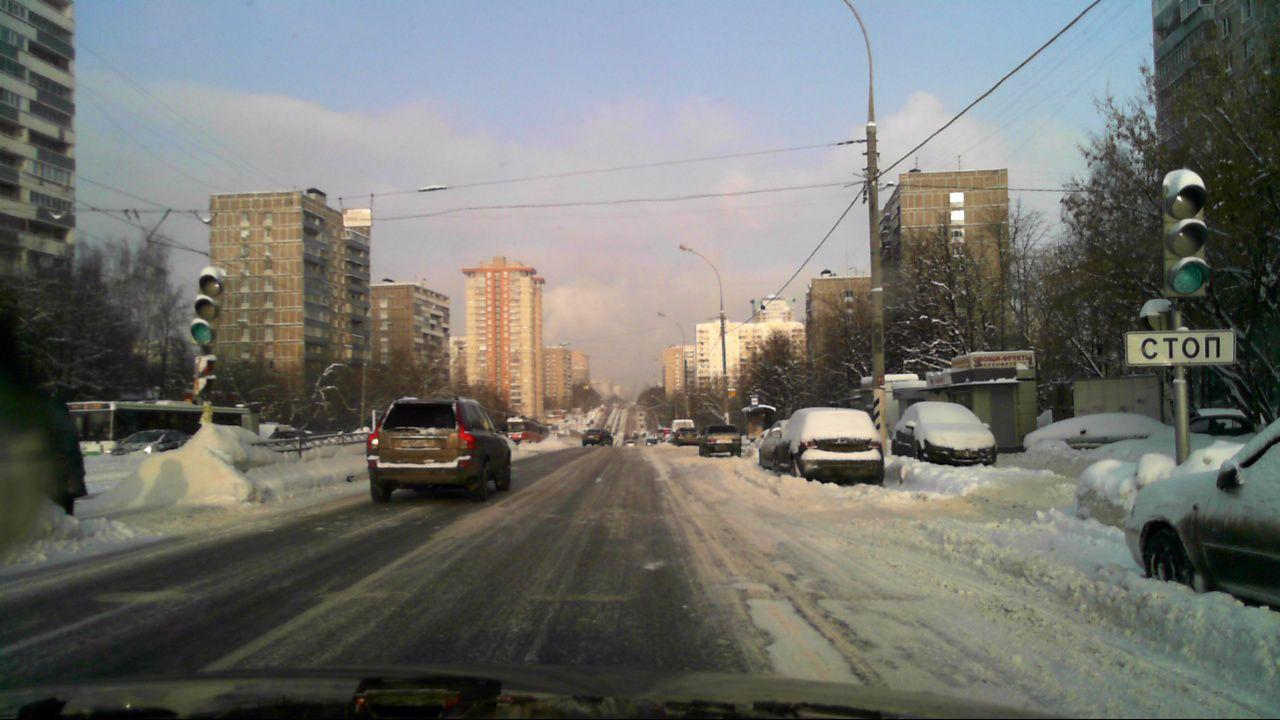6_16: (1126, 330, 1238, 367)
